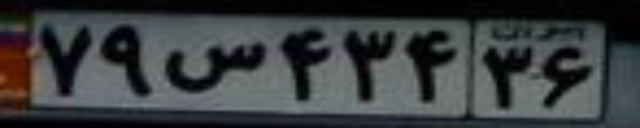3: (339, 28, 395, 101), (483, 44, 533, 108)
4: (402, 28, 457, 103), (279, 27, 330, 101)
6: (539, 44, 593, 108)
7: (37, 22, 95, 97)
9: (99, 21, 149, 96)
sin: (166, 39, 264, 92)
